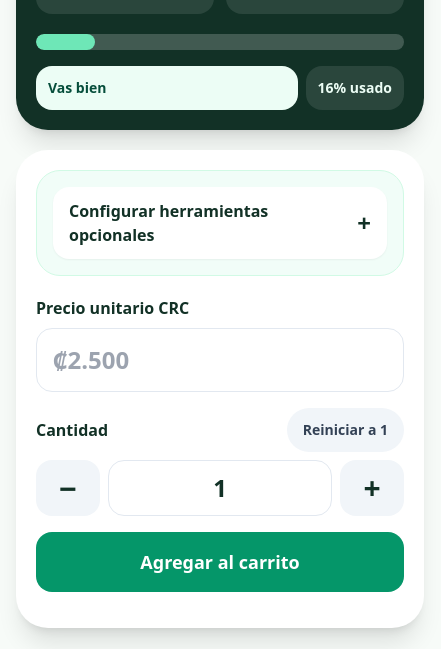
Test: purchase page mobile layout › scrolls the active purchase summary into view after a successful add
(page scrolled)
Type "2500" into the field labelled "Precio unitario CRC" at (220, 360), box [36,328,404,392]
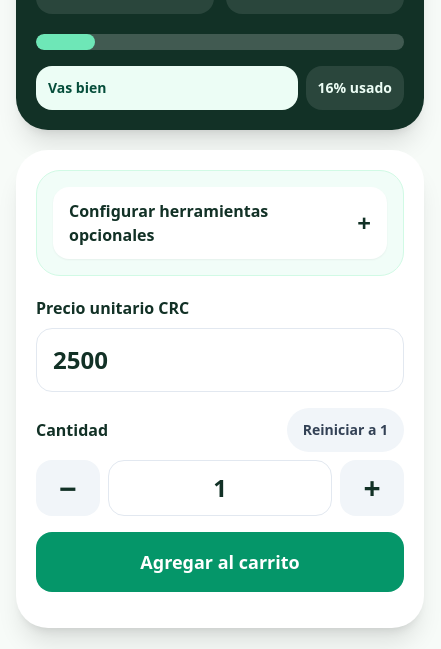
Submit the form "Agregar al carrito", box [36,296,404,592]
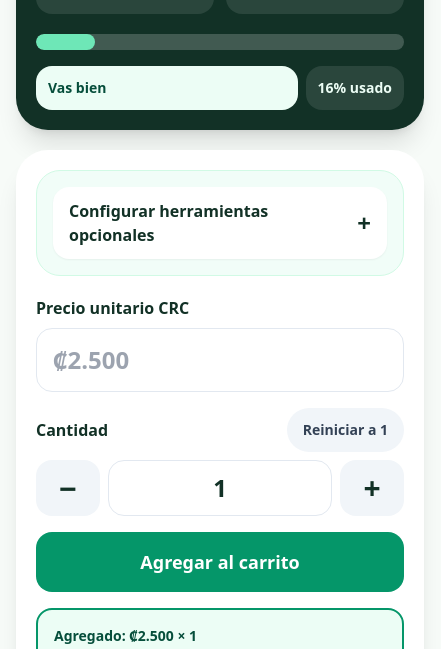
Now the text "Agregado: ₡2.500 × 1" is shown, box [54,626,197,645]
